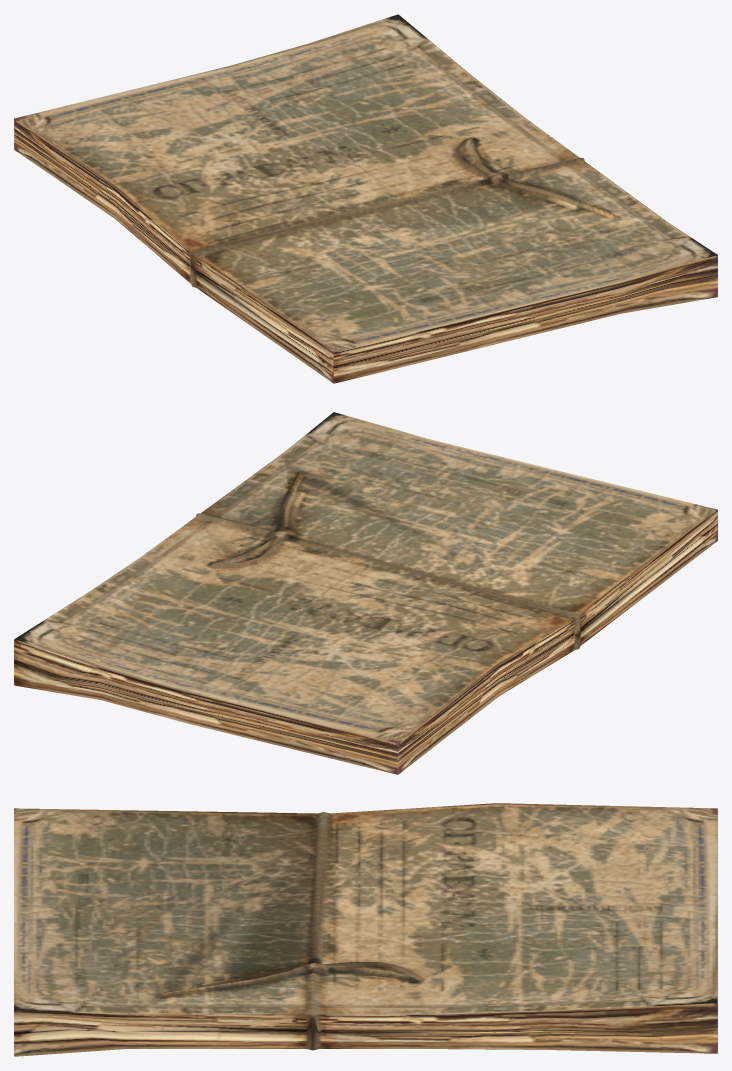
The model's file is item_document_1.fbx.
The picture shows the model from 3 angles, top to bottom: view 1: azimuth 30°, elevation 25°; view 2: azimuth 150°, elevation 25°; view 3: azimuth 270°, elevation 25°; orthographic projection. The views are drawn at different scales.
Visible parts, largest first — view 1: 0; view 2: 0; view 3: 0.
Boxes of the visible parts, bbox=[...] form: 0: bbox=[14, 14, 717, 383]; 0: bbox=[14, 412, 717, 774]; 0: bbox=[14, 803, 717, 1056].
Bounding box in the file's own units: 0.3432 × 0.0412 × 0.4893.
